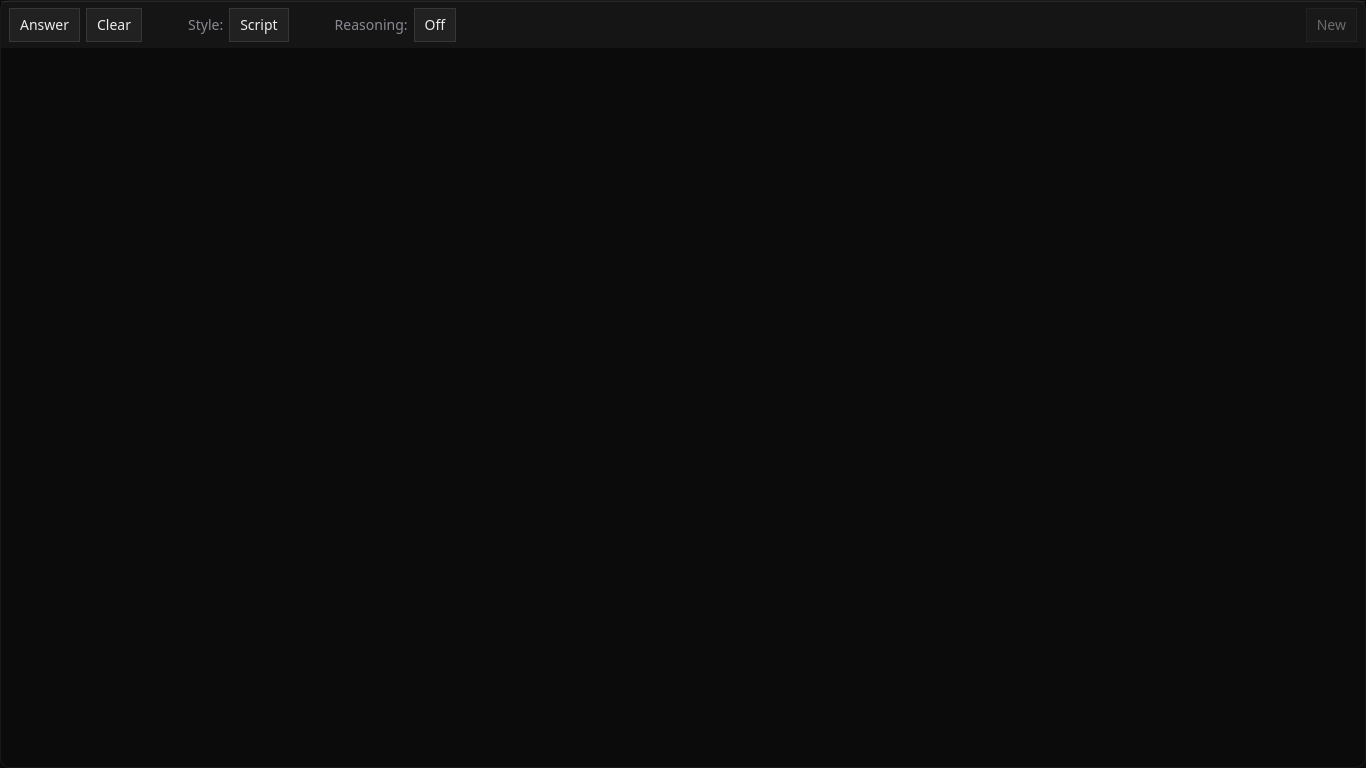
it: the reasoning toggle › flips the session setting when clicked
Click the button "Off".
click(435, 25)  # box top-left (414, 8), bottom-right (456, 42)
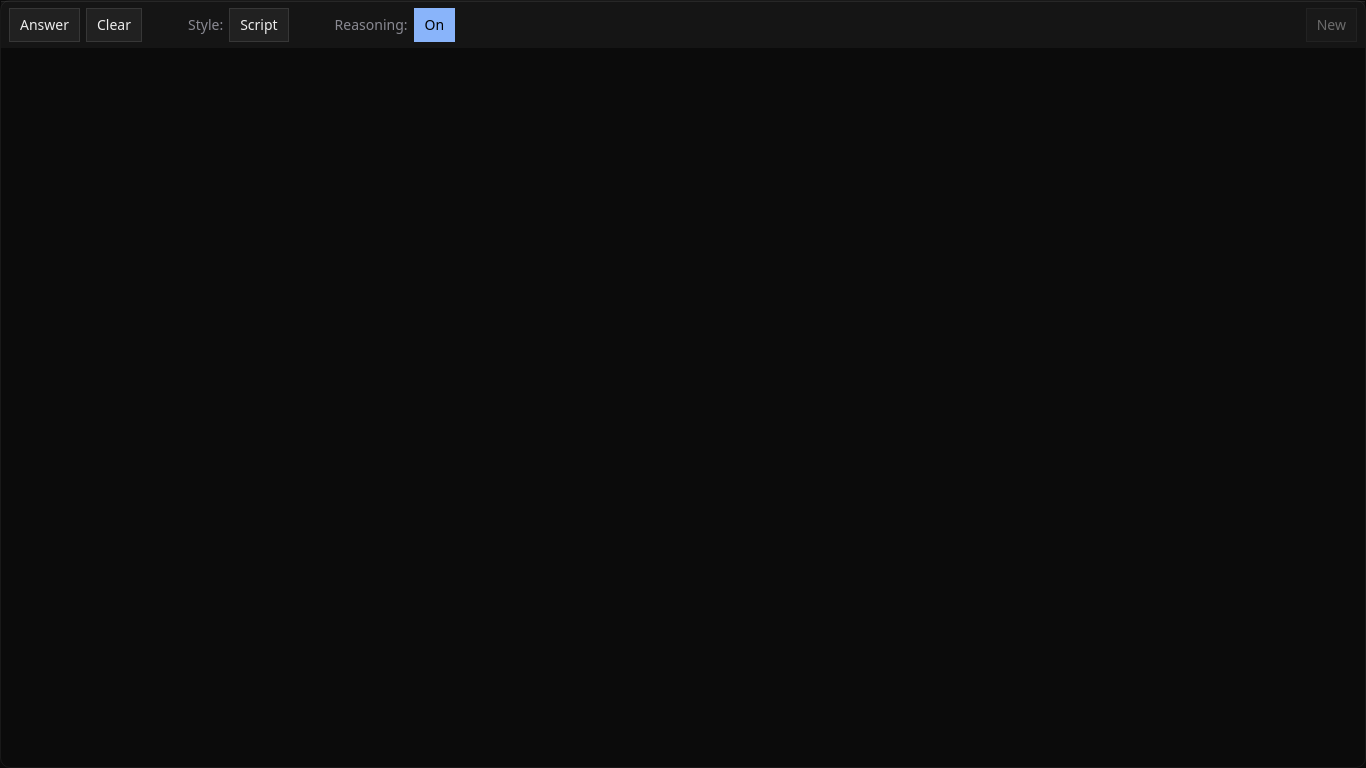
Expected: the button "On" is shown, top-left (414, 8), bottom-right (455, 42)
